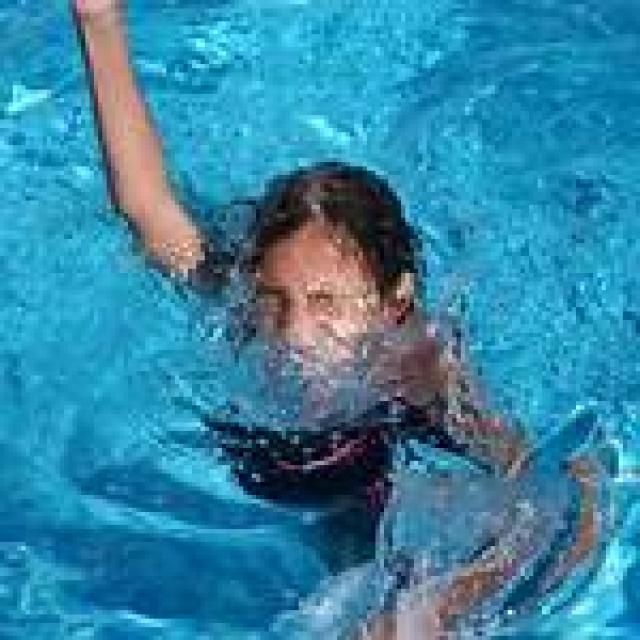drowning: (0, 2, 505, 560)
